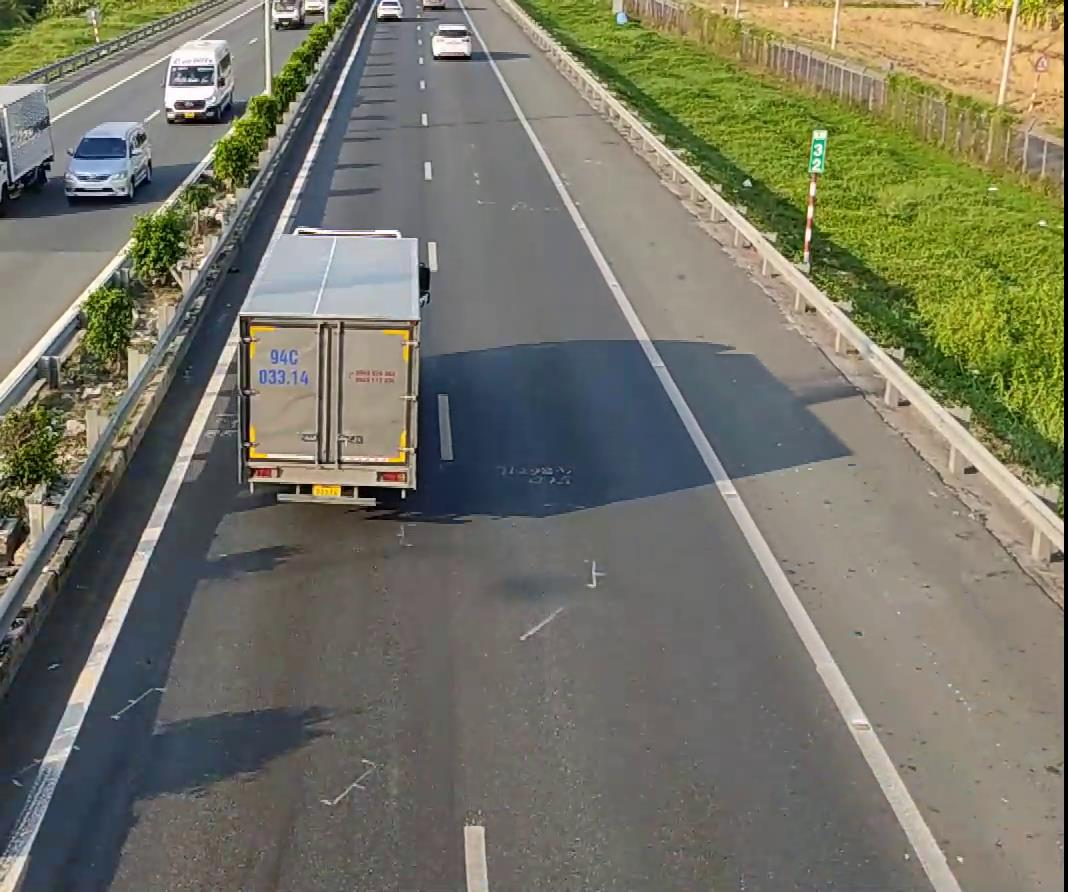car: (62, 120, 152, 202), (162, 36, 235, 122)
truck: (234, 224, 434, 507), (0, 81, 55, 207)
